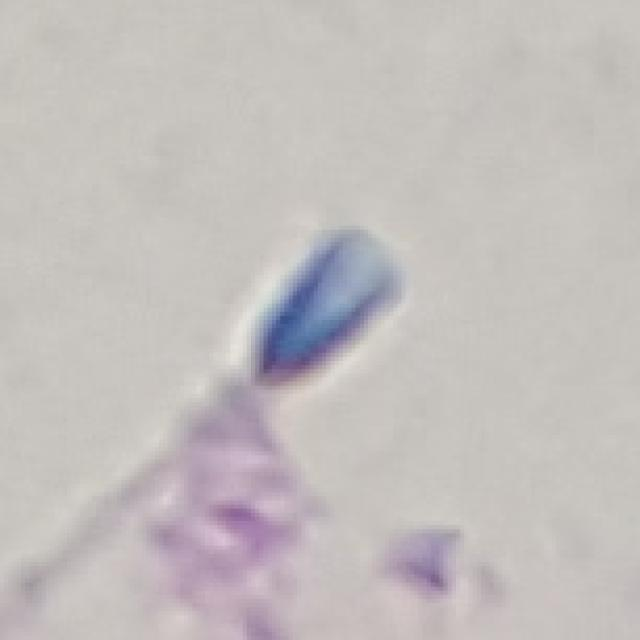abnormal sperm: (141, 225, 409, 482)
